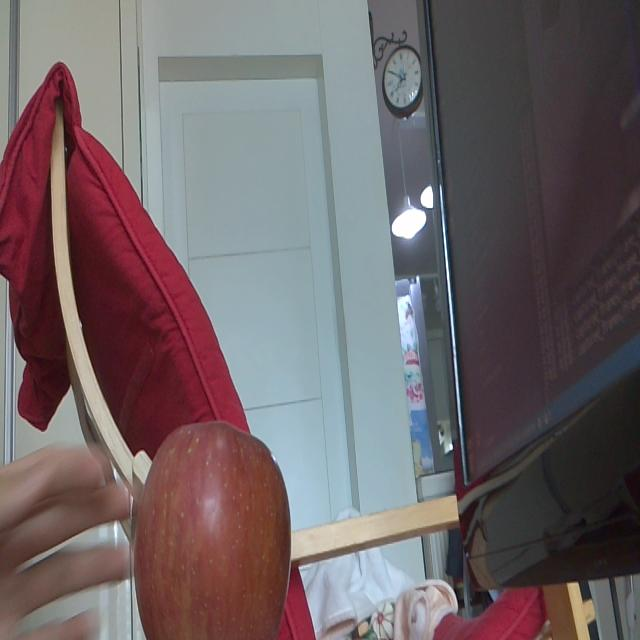apple: (135, 418, 291, 640)
